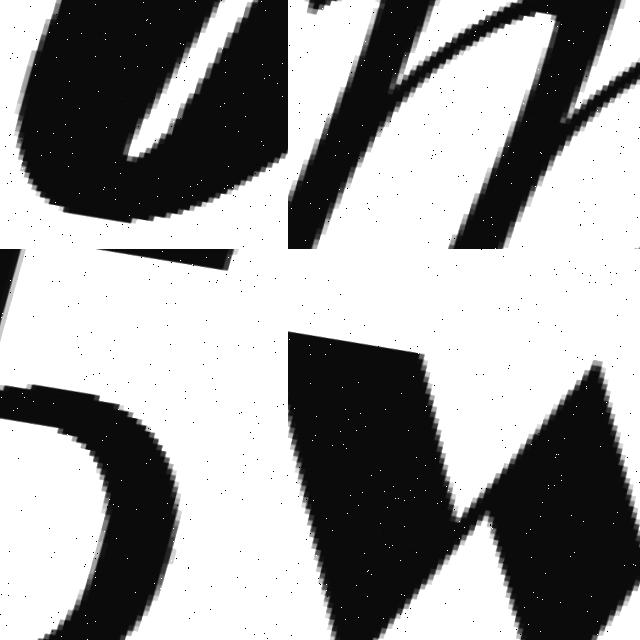5: (0, 249, 282, 640)
M: (288, 0, 640, 249)
W: (288, 300, 640, 640)
